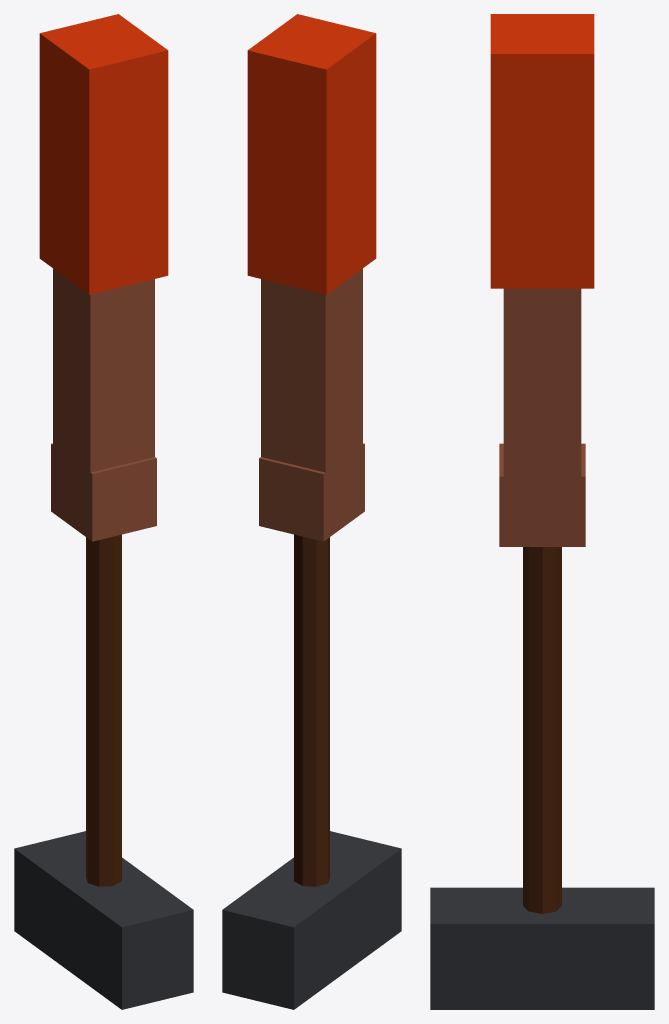
File: obrero_brazo.obj
The picture shows the model from 3 angles, left to right: view 1: azimuth 30°, elevation 25°; view 2: azimuth 150°, elevation 25°; view 3: azimuth 270°, elevation 25°; orthographic projection. The views are drawn at different scales.
Parts seen in each view (by area): view 1: obrero_brazo_exp; view 2: obrero_brazo_exp; view 3: obrero_brazo_exp.
Part boxes in pixels (bbox=[...]): obrero_brazo_exp: bbox=[14, 14, 193, 1009]; obrero_brazo_exp: bbox=[222, 14, 401, 1009]; obrero_brazo_exp: bbox=[430, 14, 654, 1009].
Bounding box in the file's own units: 0.11 × 1.23 × 0.26.
